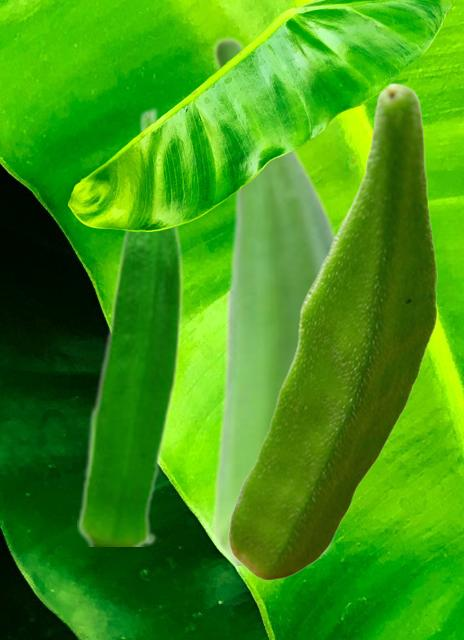okra: (228, 82, 436, 579), (210, 35, 340, 564), (77, 106, 184, 545)
